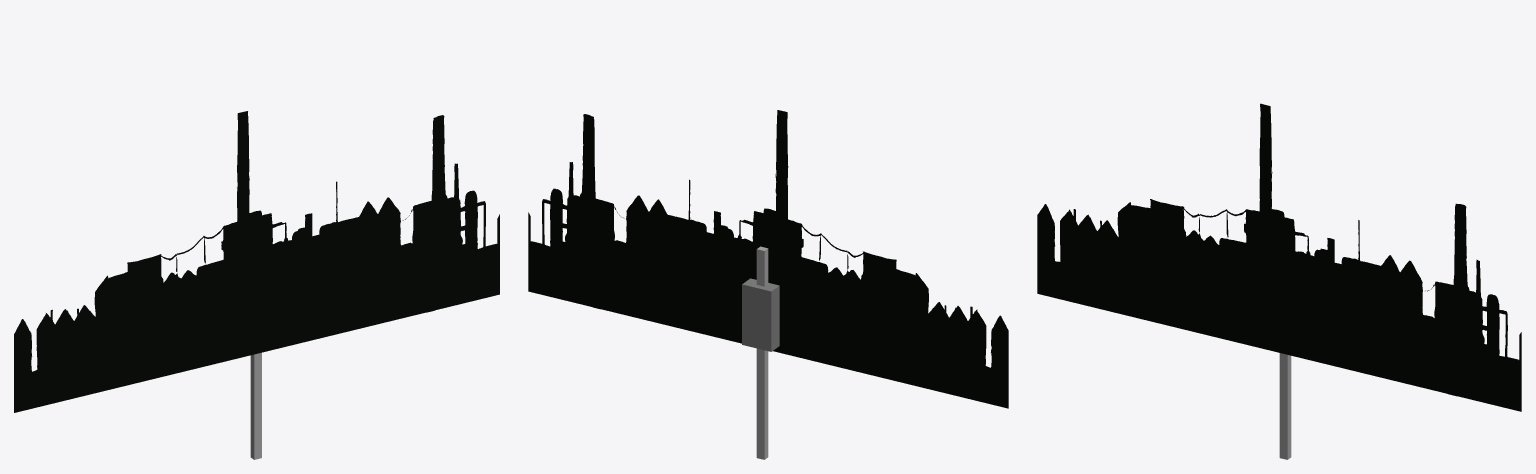
Rendered from depression_silhouette1.fbx.
The picture shows the model from 3 angles, left to right: view 1: azimuth 30°, elevation 25°; view 2: azimuth 150°, elevation 25°; view 3: azimuth 330°, elevation 25°; orthographic projection.
Parts seen in each view (by area): view 1: pCube1, pCube4; view 2: pCube1, pCube3, pCube4; view 3: pCube1, pCube4.
Part boxes in pixels (x1,y1,x2,y2): pCube1: [14, 111, 499, 412]; pCube4: [250, 352, 261, 459]; pCube1: [528, 110, 1008, 408]; pCube3: [742, 278, 779, 351]; pCube4: [756, 246, 768, 459]; pCube1: [1037, 103, 1521, 411]; pCube4: [1279, 353, 1291, 459].
Size of the model in its own units: 0.0832 by 0.0634 by 0.00251.
Materials: 3 (1 with a texture image).
